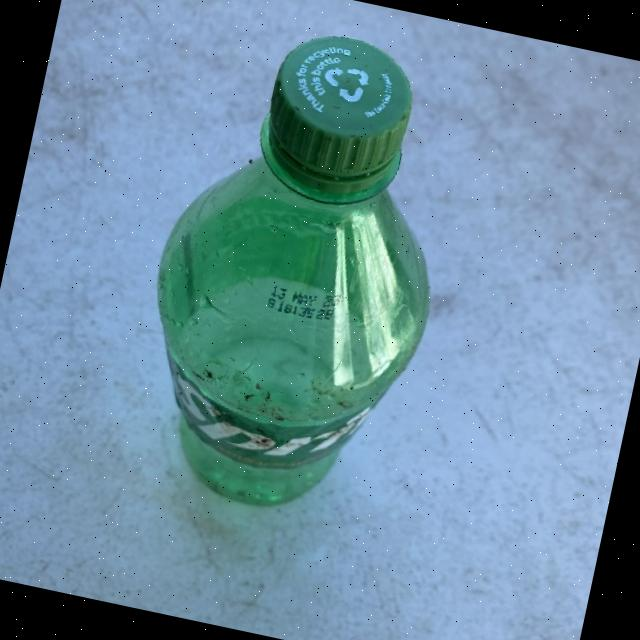plastic: (112, 6, 482, 532)
